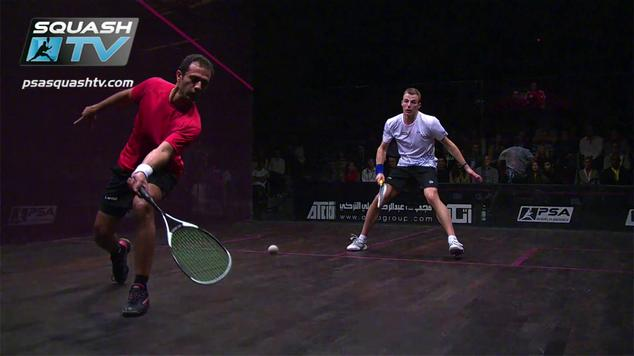crouch: (365, 84, 465, 241)
sit: (493, 147, 539, 180)
stay: (116, 235, 131, 284)
walk: (365, 84, 465, 241)
